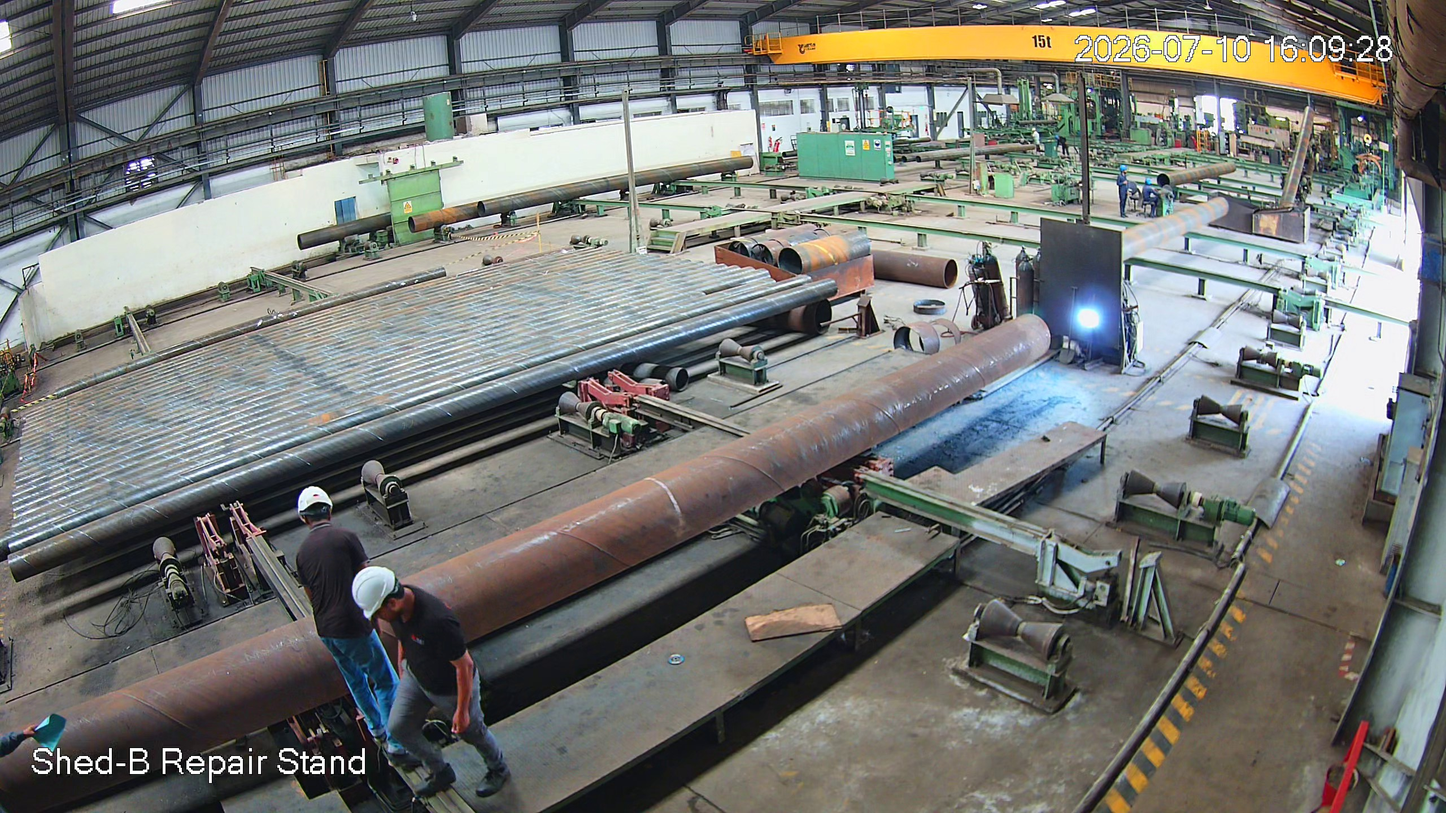Helmet: (352, 558, 437, 640), (288, 472, 349, 553)
Person: (283, 478, 421, 796), (354, 564, 519, 813)
